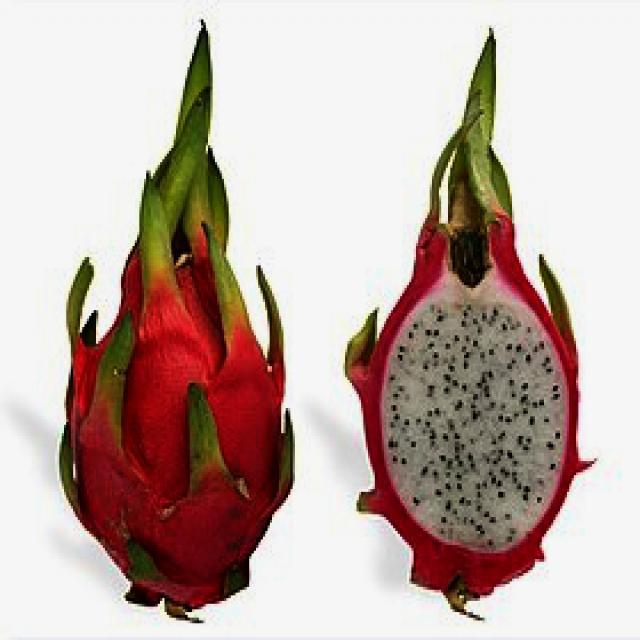trang: (57, 14, 295, 624), (343, 23, 582, 625)
